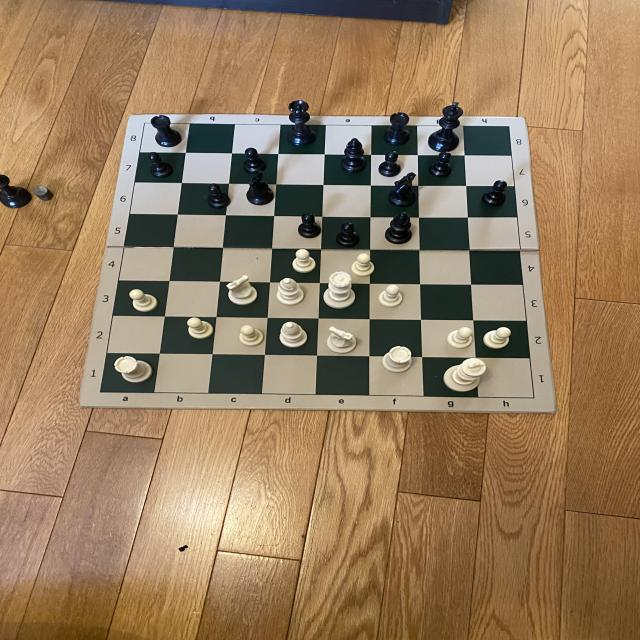Chessboard-Corners: (527, 390, 544, 403), (93, 386, 107, 398), (134, 121, 150, 130), (498, 124, 516, 130)
